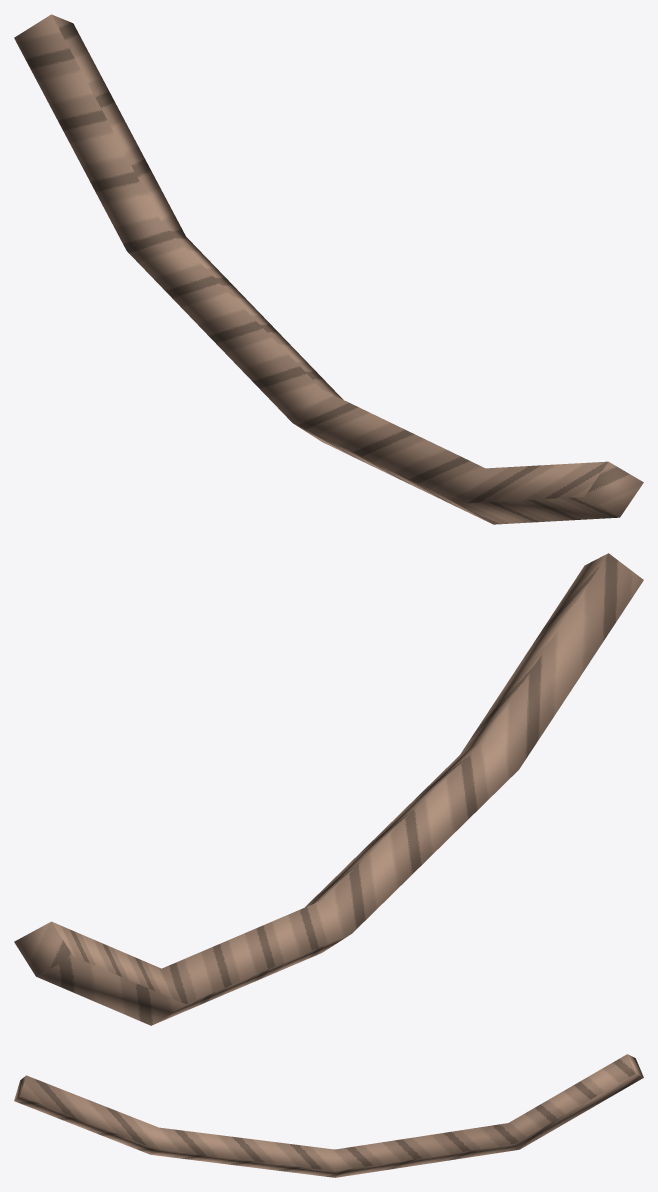
Rendered from Rope.fbx.
3 views of the same model, one above another, from view 1: azimuth 30°, elevation 25°; view 2: azimuth 150°, elevation 25°; view 3: azimuth 270°, elevation 25° (orthographic). The views are drawn at different scales.
Parts seen in each view (by area): view 1: Rope; view 2: Rope; view 3: Rope.
Part boxes in pixels (x1=…): Rope: x1=14, y1=14, x2=643, y2=524; Rope: x1=14, y1=553, x2=643, y2=1025; Rope: x1=14, y1=1054, x2=643, y2=1177.
Size of the model in its own units: 7.77 by 28.69 by 132.
